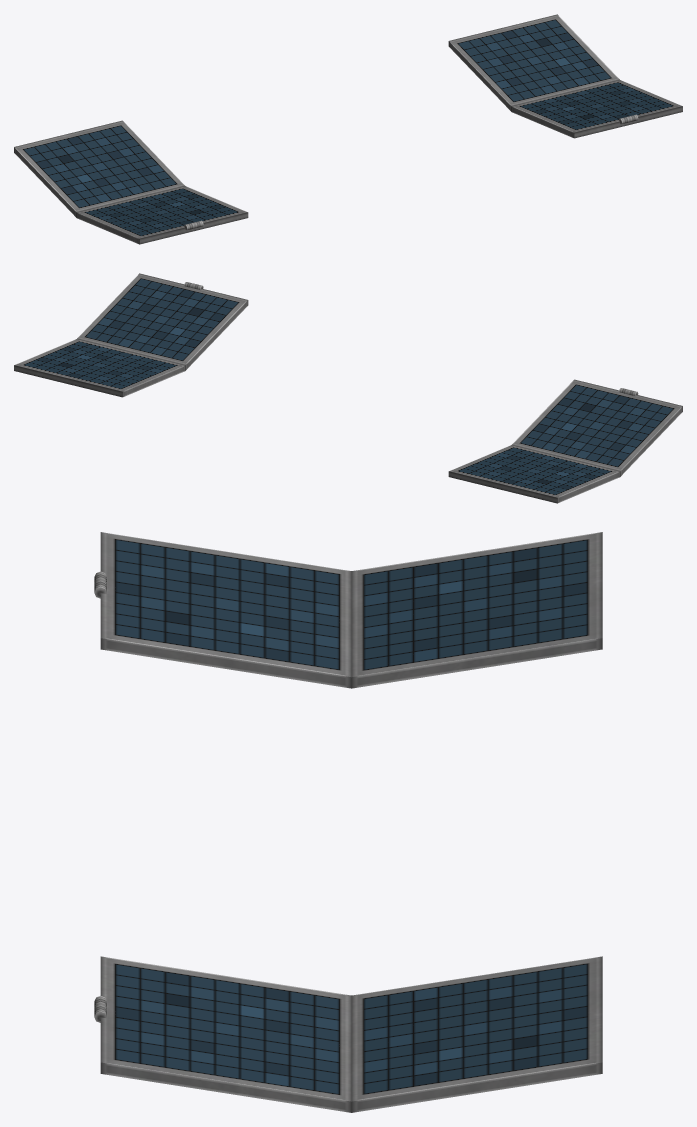
File: small down.obj
3 views of the same model, one above another, from view 1: azimuth 30°, elevation 25°; view 2: azimuth 150°, elevation 25°; view 3: azimuth 270°, elevation 25° (orthographic). The views are drawn at different scales.
Visible parts, largest first — view 1: up_copy7; view 2: up_copy7; view 3: up_copy7.
Boxes of the visible parts, x1,y1,x2,y2 form: up_copy7: (14, 14, 682, 244); up_copy7: (14, 273, 682, 503); up_copy7: (94, 532, 602, 1112).
Size of the model in its own units: 2.5 by 0.1235 by 1.01.
1 material, 1 textured.
